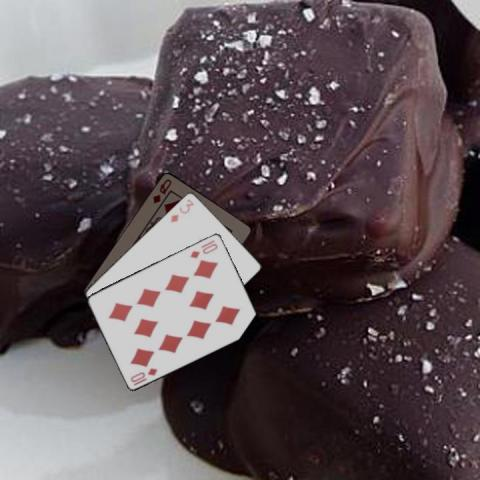10d: (188, 240, 220, 259), (127, 365, 159, 383)
3d: (168, 196, 196, 223)
Qd: (150, 176, 173, 206)
